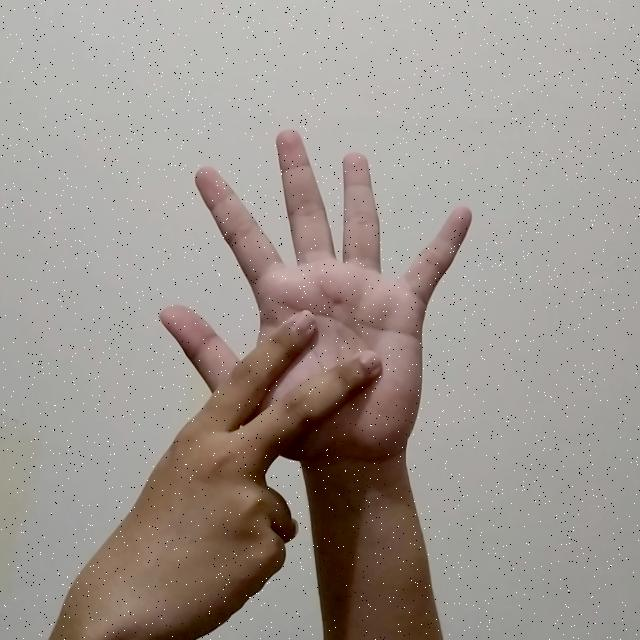N: (112, 120, 490, 582)
